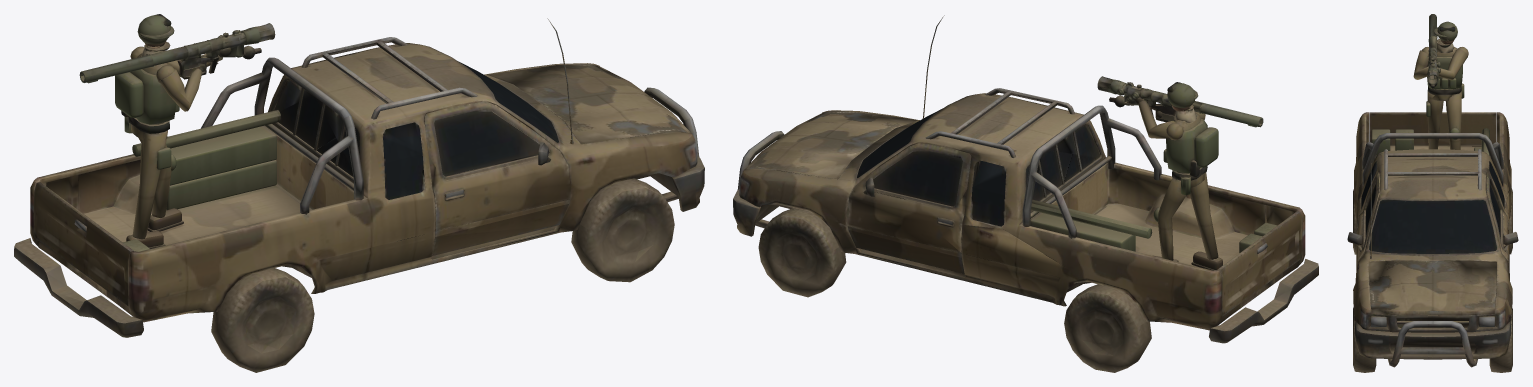
The model's file is fh_battle_e_convoy_manpads.glb.
3 renders of one model, left to right at view 1: azimuth 30°, elevation 25°; view 2: azimuth 150°, elevation 25°; view 3: azimuth 270°, elevation 25°, orthographic. The views are drawn at different scales.
Parts seen in each view (by area): view 1: convoy_manpads, wheel_1r, wheel_fr, launcher; view 2: convoy_manpads, wheel_1l, wheel_fl, launcher; view 3: convoy_manpads, launcher, wheel_fl, wheel_fr, wheel_1l, wheel_1r.
Boxes of the visible parts, x1,y1,x2,y2 form: convoy_manpads: (14,14,704,337); wheel_1r: (211,268,314,372); wheel_fr: (571,178,674,282); launcher: (79,23,275,111); convoy_manpads: (733,15,1318,343); wheel_1l: (1064,284,1151,372); wheel_fl: (758,208,846,297); launcher: (1097,76,1263,138); convoy_manpads: (1347,21,1518,367); launcher: (1413,14,1467,88); wheel_fl: (1489,308,1512,372); wheel_fr: (1353,307,1376,372); wheel_1l: (1509,188,1512,254); wheel_1r: (1353,189,1356,254).
Size of the model in its own units: 1 by 0.4983 by 0.3618.
2 materials, 2 textured.
